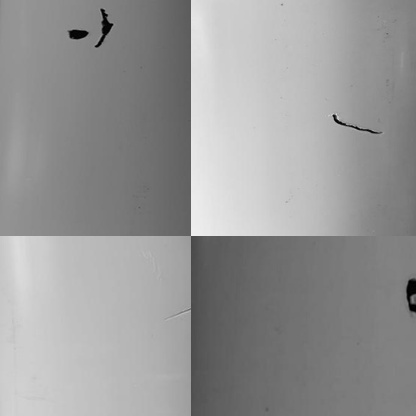fengxi: (330, 112, 379, 137)
kongdong: (94, 7, 118, 51), (401, 276, 414, 317), (66, 27, 88, 43)
